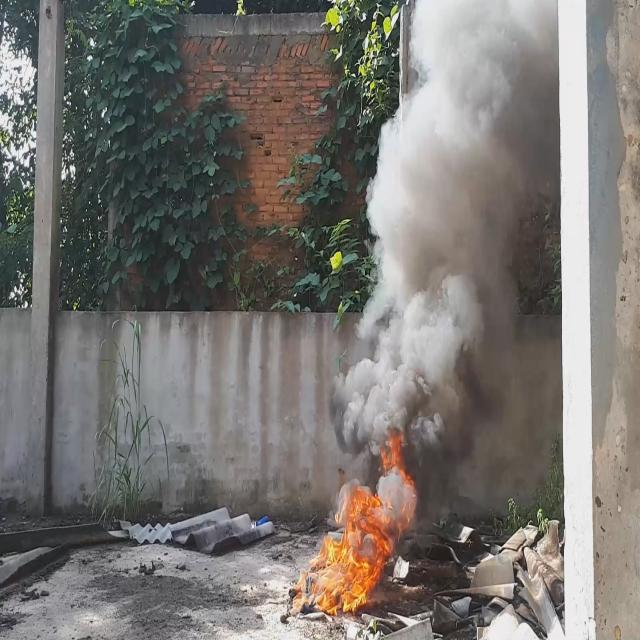Fire: (306, 424, 418, 619)
Smoke: (331, 0, 558, 519)
